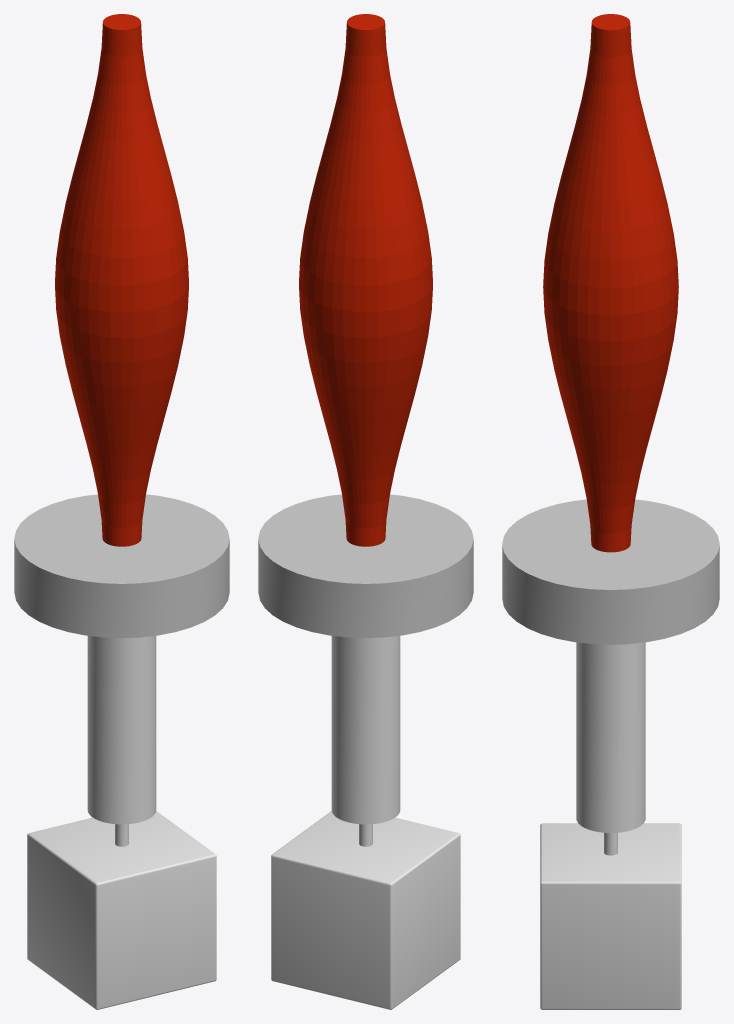
File: Statua1.fbx
The picture shows the model from 3 angles, left to right: view 1: azimuth 30°, elevation 25°; view 2: azimuth 150°, elevation 25°; view 3: azimuth 270°, elevation 25°; orthographic projection.
Parts seen in each view (by area): view 1: Base, Cylinder_2, Cylinder_4_fracturepart1, Cylinder_4_fracturepart2, Cylinder, Cylinder_4_fracturepart3_2, Cylinder_4_fracturepart; view 2: Base, Cylinder_4_fracturepart3_2, Cylinder_2, Cylinder_4_fracturepart2, Cylinder, Cylinder_4_fracturepart; view 3: Base, Cylinder_2, Cylinder_4_fracturepart1, Cylinder_4_fracturepart2, Cylinder, Cylinder_4_fracturepart3_2, Cylinder_4_fracturepart.
Part boxes in pixels (x1,y1,x2,y2): Base: (27,811,216,1009); Cylinder_2: (14,494,229,638); Cylinder_4_fracturepart1: (89,230,188,546); Cylinder_4_fracturepart2: (61,23,183,255); Cylinder: (87,636,156,824); Cylinder_4_fracturepart3_2: (55,227,109,544); Cylinder_4_fracturepart: (103,14,140,29); Base: (271,811,460,1009); Cylinder_4_fracturepart3_2: (299,230,432,546); Cylinder_2: (258,494,473,638); Cylinder_4_fracturepart2: (304,23,427,251); Cylinder: (331,636,400,824); Cylinder_4_fracturepart: (347,14,384,29); Base: (540,823,681,1009); Cylinder_2: (502,499,719,644); Cylinder_4_fracturepart1: (543,231,631,552); Cylinder_4_fracturepart2: (549,23,672,260); Cylinder: (576,642,645,832); Cylinder_4_fracturepart3_2: (620,229,678,551); Cylinder_4_fracturepart: (591,14,630,30).
Size of the model in its own units: 46.09 by 224 by 46.09.
